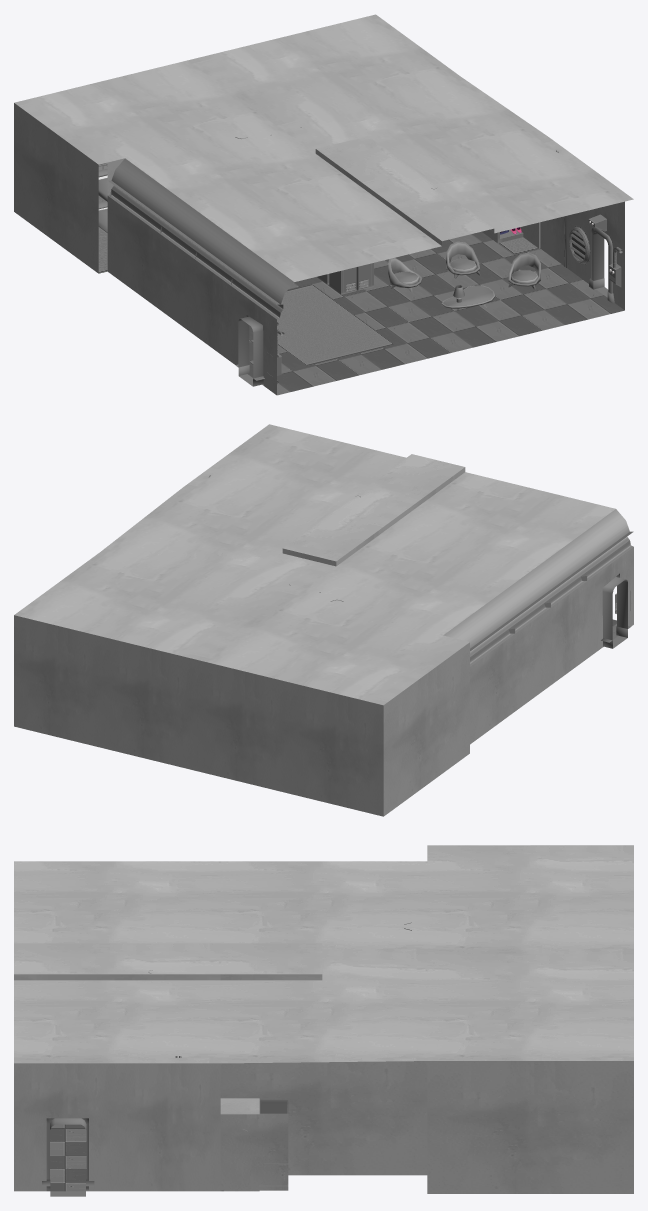
Rendered from MSH_living_quarters_L2_R2_optimized.fbx.
The picture shows the model from 3 angles, top to bottom: view 1: azimuth 30°, elevation 25°; view 2: azimuth 150°, elevation 25°; view 3: azimuth 270°, elevation 25°; orthographic projection. The views are drawn at different scales.
Parts seen in each view (by area): view 1: lightmap0, MSH_living_quarters_L2_R2_door; view 2: lightmap0, MSH_living_quarters_L2_R2_door; view 3: lightmap0.
Part boxes in pixels (x1,y1,x2,y2): lightmap0: [14, 14, 633, 395]; MSH_living_quarters_L2_R2_door: [238, 232, 608, 386]; lightmap0: [14, 424, 633, 816]; MSH_living_quarters_L2_R2_door: [602, 577, 627, 648]; lightmap0: [14, 845, 633, 1193].
Bounding box in the file's own units: 20.61 × 6.17 × 24.77.
Materials: 4 (3 with a texture image).
